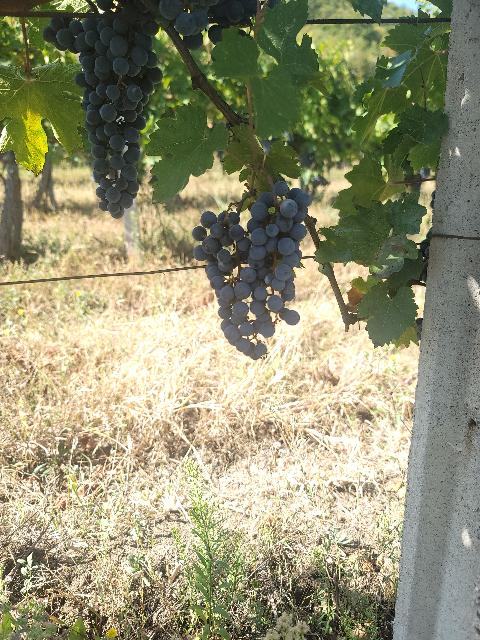grapes: (42, 0, 162, 219), (192, 211, 274, 359), (249, 180, 311, 325), (159, 0, 258, 50)
